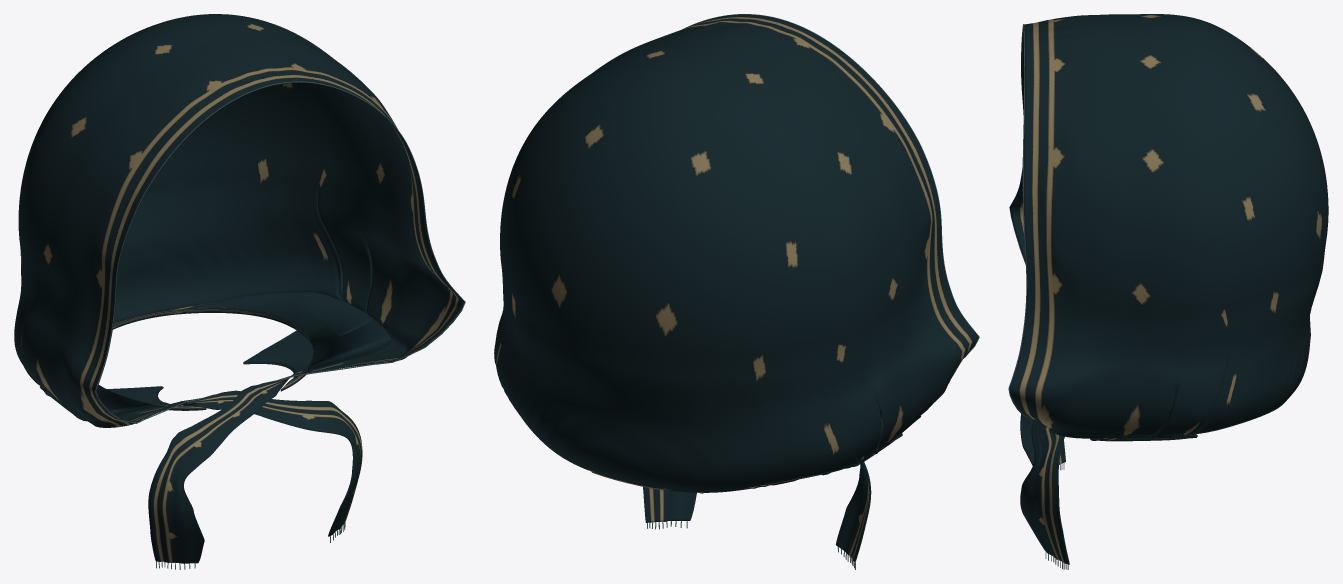
File: Feminine-Feminine-straight-sweatshirt-pashmina250-headgear-b7ba2e8c.glb
The picture shows the model from 3 angles, left to right: view 1: azimuth 30°, elevation 25°; view 2: azimuth 150°, elevation 25°; view 3: azimuth 270°, elevation 25°; orthographic projection. The views are drawn at different scales.
Visible parts, largest first — view 1: 226 headgear / Headwear / continuous woven pashmina239, 226 headgear / Headwear / face edge239; view 2: 226 headgear / Headwear / continuous woven pashmina239, 226 headgear / Headwear / face edge239; view 3: 226 headgear / Headwear / continuous woven pashmina239, 226 headgear / Headwear / face edge239.
Part boxes in pixels (bbox=[...]): 226 headgear / Headwear / continuous woven pashmina239: bbox=[14, 14, 464, 563]; 226 headgear / Headwear / face edge239: bbox=[95, 81, 465, 423]; 226 headgear / Headwear / continuous woven pashmina239: bbox=[494, 14, 978, 562]; 226 headgear / Headwear / face edge239: bbox=[683, 14, 979, 358]; 226 headgear / Headwear / continuous woven pashmina239: bbox=[1009, 14, 1328, 564]; 226 headgear / Headwear / face edge239: bbox=[1008, 24, 1031, 418].
Size of the model in its own units: 0.9769 by 1.23 by 0.723.
3 materials, 1 textured.
